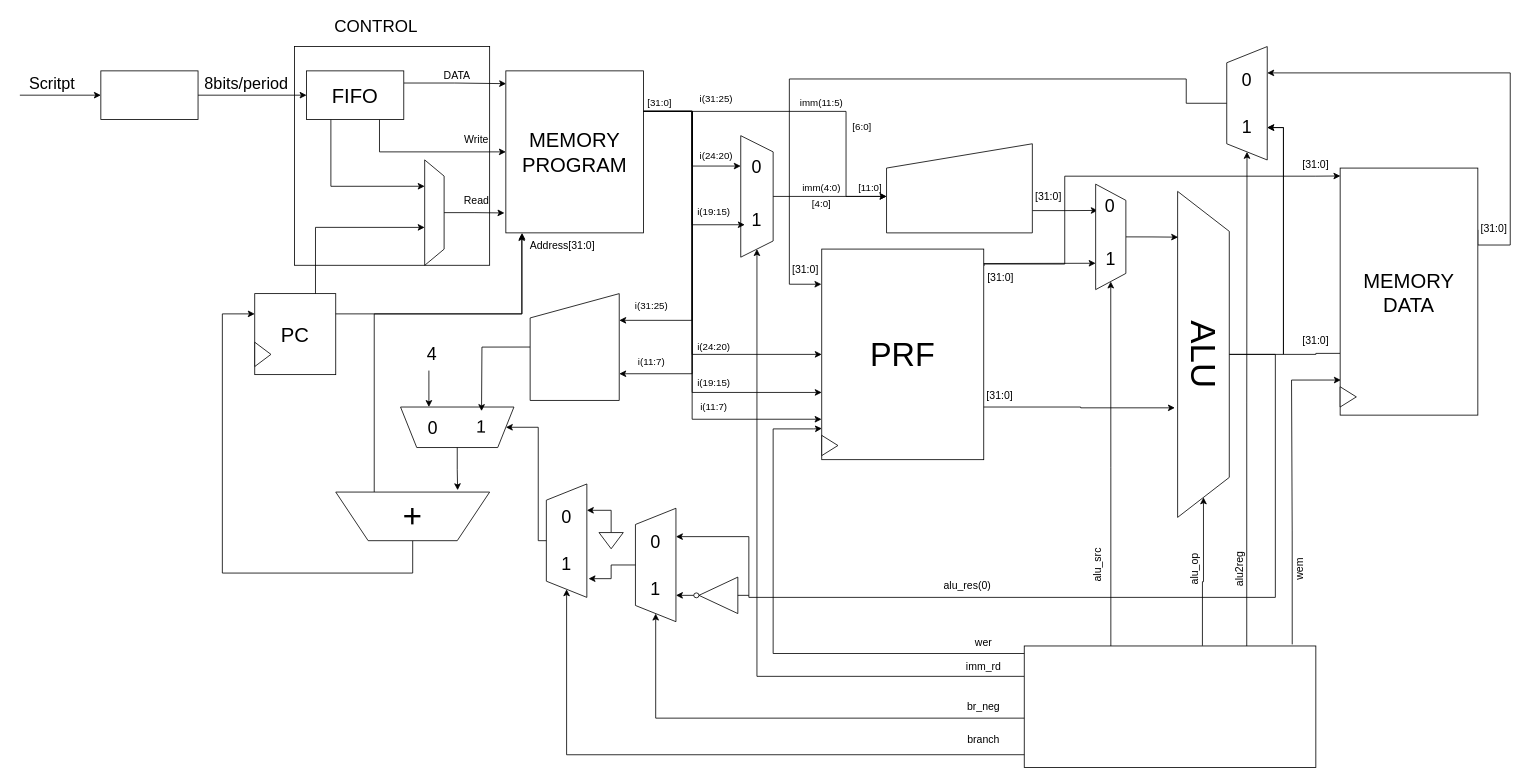
This 1533x782 diagram has some shape labels left out. Here are the shapes that lost their labels. From the top down, the centre of each, then its label:
point (149, 94): UART
point (959, 188): SIGN EXTEND
point (574, 346): ORDEN & SIGN EXTEND
point (1169, 706): CONTROL UNIT
